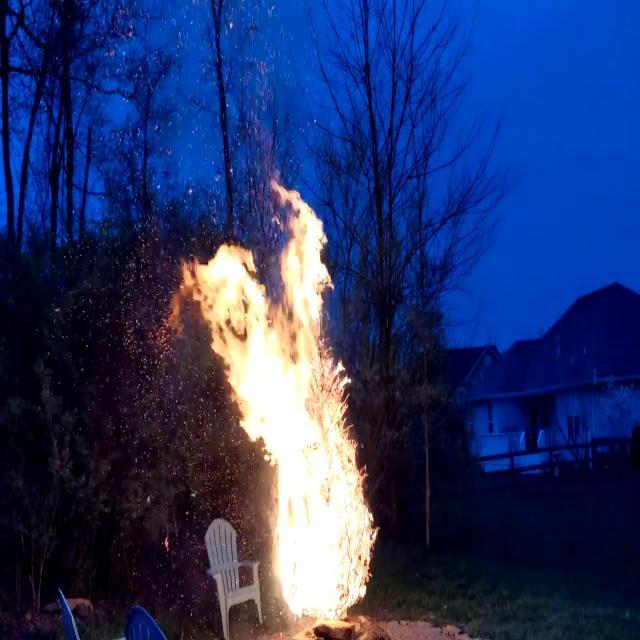Fire: (185, 176, 384, 622)
